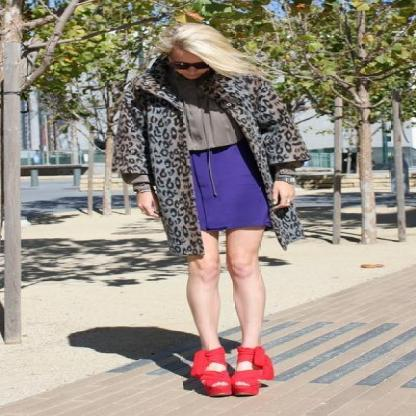jacket: (90, 58, 322, 265)
shirt: (171, 100, 236, 154)
shoe: (187, 346, 275, 397)
skirt: (187, 145, 276, 239)
